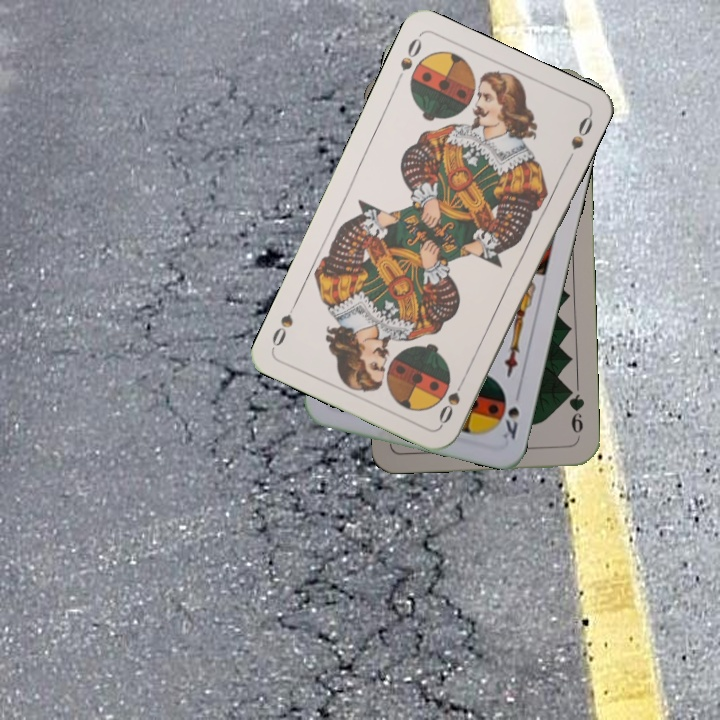G9: (563, 383, 586, 436)
SK: (498, 402, 522, 442)
SO: (434, 373, 469, 428), (396, 33, 425, 74)
